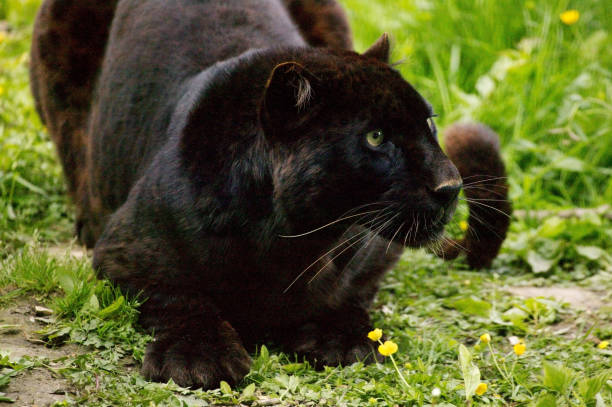panther: (258, 32, 467, 255)
